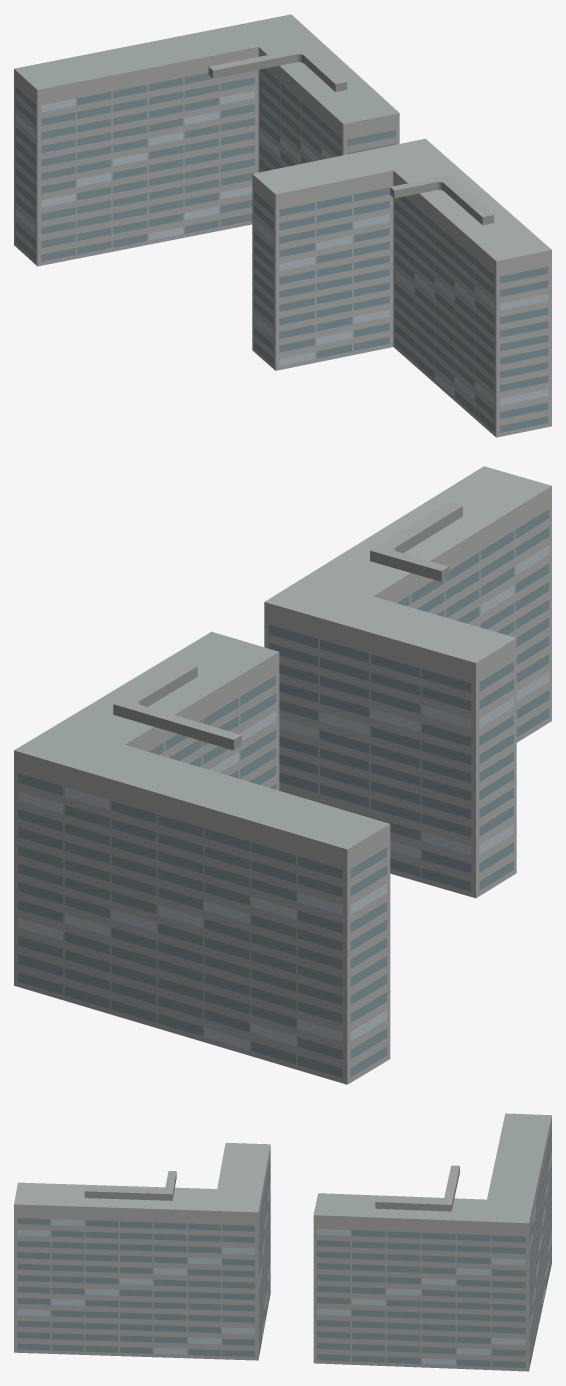
The model's file is apt-a15788901.glb.
The picture shows the model from 3 angles, top to bottom: view 1: azimuth 30°, elevation 25°; view 2: azimuth 150°, elevation 25°; view 3: azimuth 270°, elevation 25°; orthographic projection. The views are drawn at different scales.
Parts seen in each view (by area): view 1: apt-a15788901; view 2: apt-a15788901; view 3: apt-a15788901.
Part boxes in pixels (x1,y1,x2,y2): apt-a15788901: (14, 14, 551, 437); apt-a15788901: (14, 466, 551, 1084); apt-a15788901: (14, 1113, 551, 1371).
Size of the model in its own units: 63.03 by 41.43 by 130.
